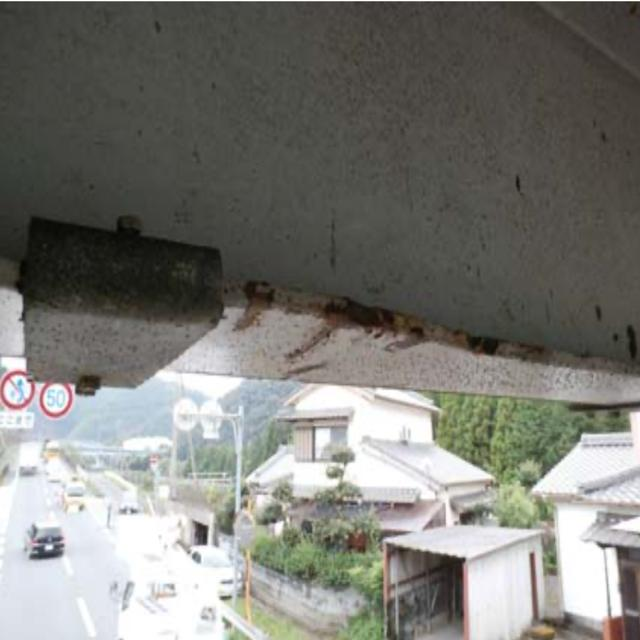corrosion: (232, 272, 562, 367)
